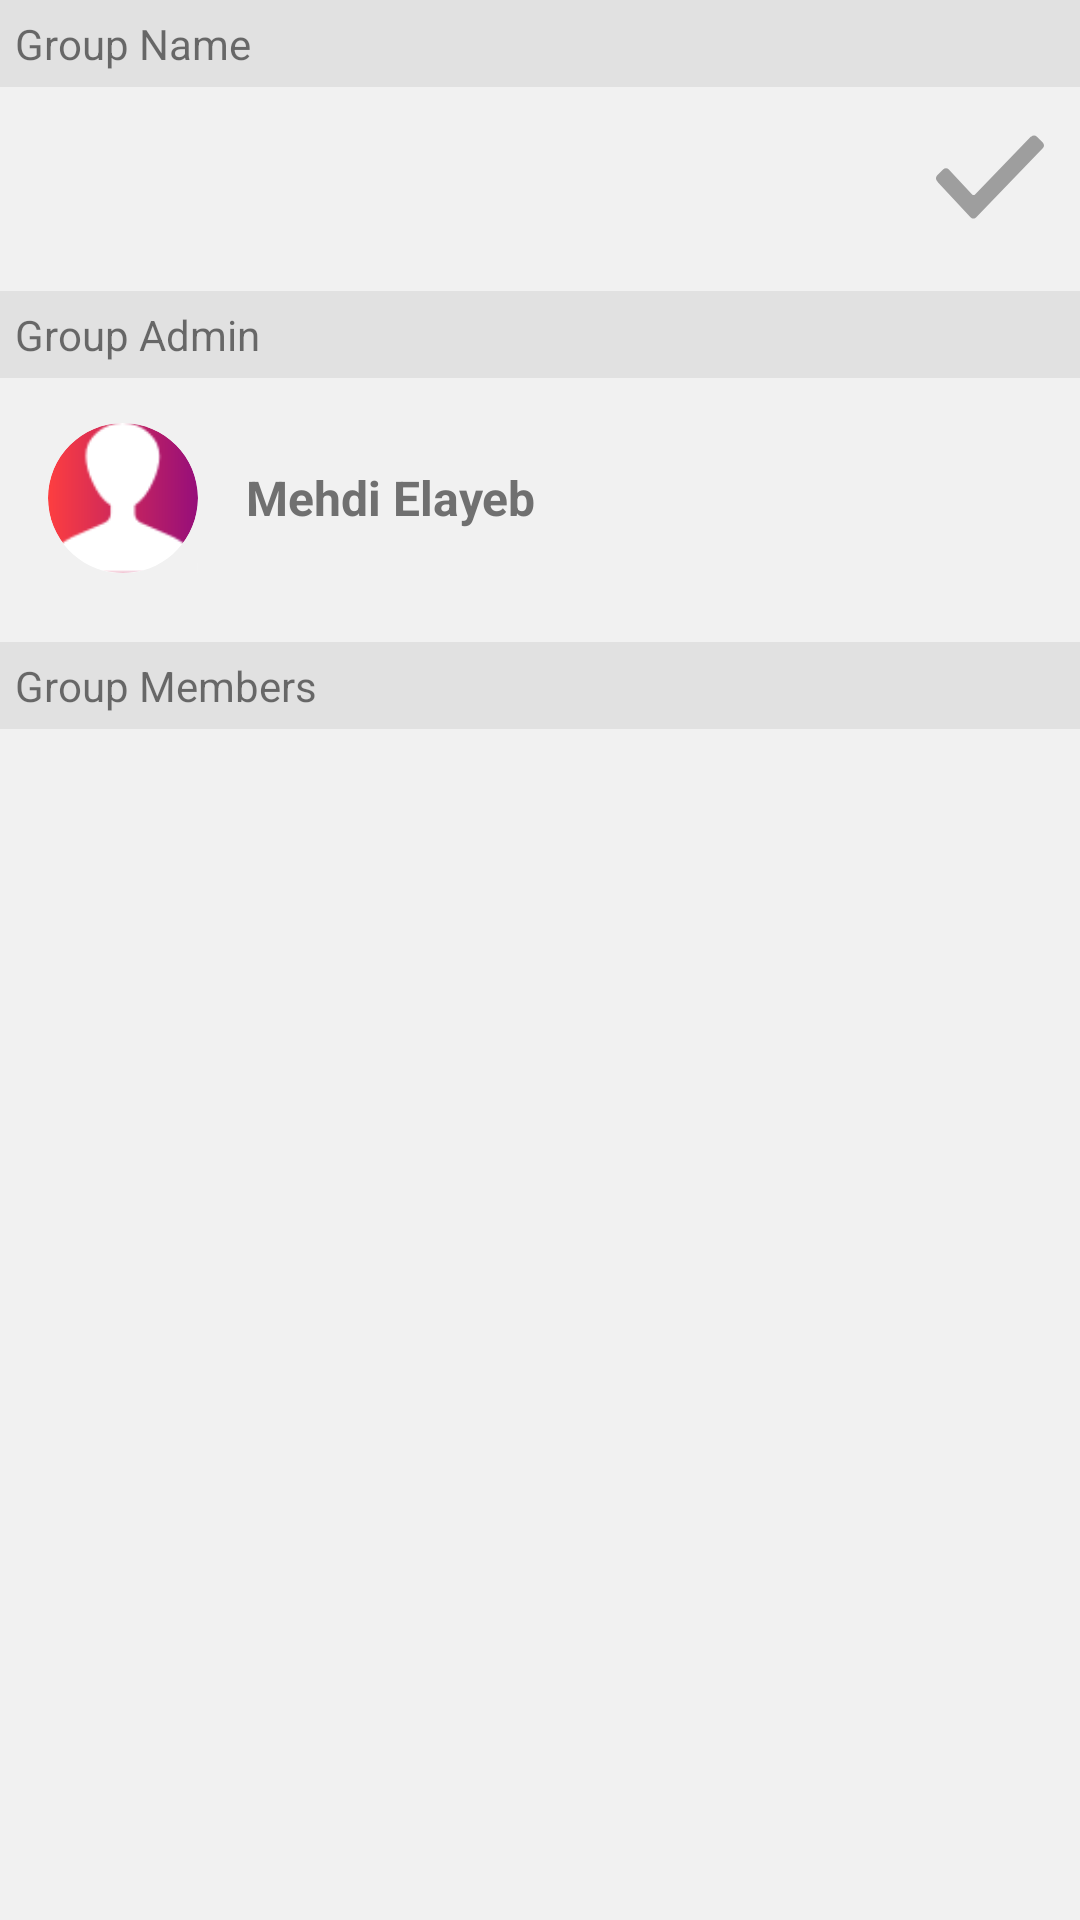

Point at icon controls on the screen. Image size 1080x1920, points as [x,y].
checked: [990,177]
